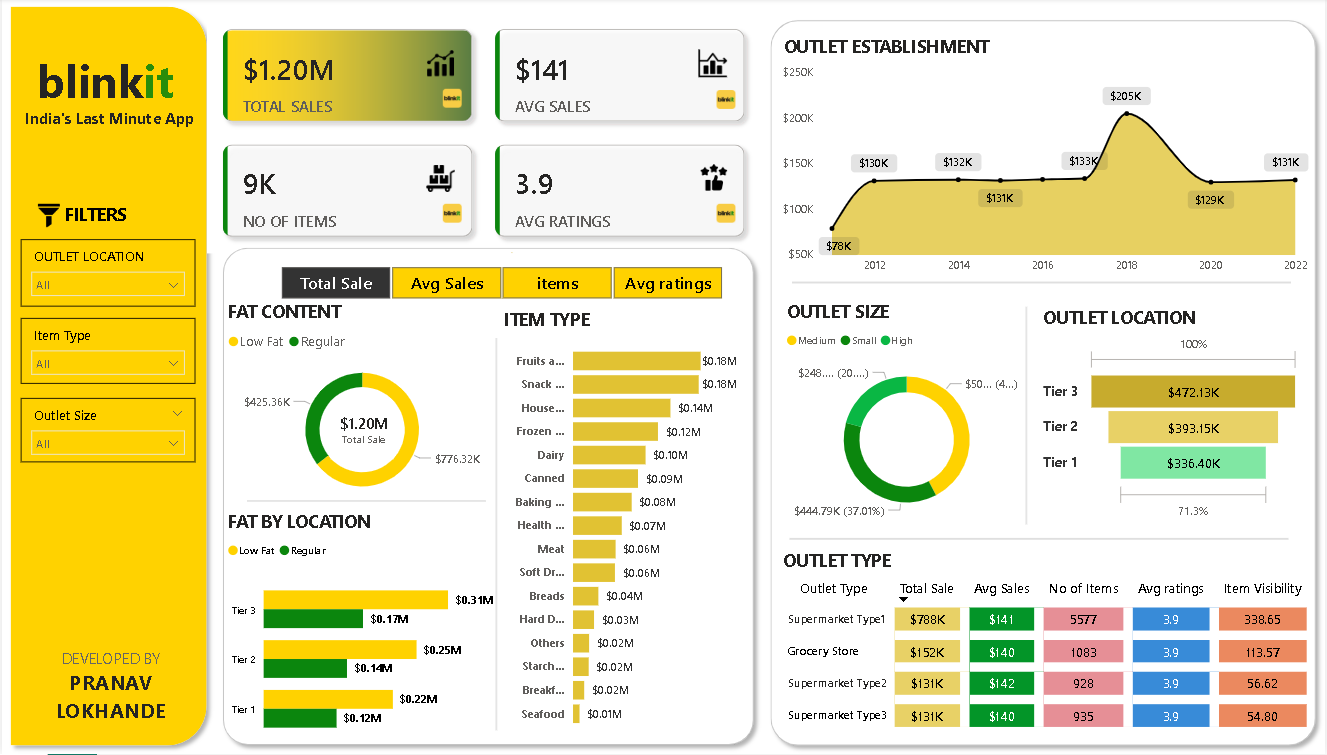

The dashboard page shown, as its layout file describes it:
{"tool":"powerbi","page":{"name":"Page 1","canvas":[1400,800],"ordinal":0},"visuals":[{"type":"shape","box":[0,0,225.4,800],"z":0},{"type":"textbox","box":[32.2,49.2,176.3,76.3],"z":1000},{"type":"textbox","box":[13.6,110.2,201.7,67.8],"z":2000},{"type":"cardVisual","fields":{"Data":["BlinkIT Grocery Data.Total Sale","BlinkIT Grocery Data.Avg Sales","BlinkIT Grocery Data.items","BlinkIT Grocery Data.Avg ratings"]},"box":[216.9,15.3,586.4,254.2],"z":3000},{"type":"shape","box":[225.4,255.9,579.7,544.1],"z":4000},{"type":"donutChart","title":"FAT CONTENT","fields":{"Y":["BlinkIT Grocery Data.Total Sale"],"Category":["BlinkIT Grocery Data.Item Fat Content"]},"box":[233.9,318.6,294.9,222],"z":5000},{"type":"slicer","fields":{"Values":["Metrics.Metrics"]},"box":[269.6,277.3,516.4,45.8],"z":6000},{"type":"cardVisual","fields":{"Data":["BlinkIT Grocery Data.Total Sale"]},"box":[347.6,426.7,66.8,60.6],"z":7000},{"type":"clusteredBarChart","title":"FAT BY LOCATION","fields":{"Series":["BlinkIT Grocery Data.Item Fat Content"],"Y":["BlinkIT Grocery Data.Total Sale"],"Category":["BlinkIT Grocery Data.Outlet Location Type"]},"box":[233.9,540.7,294.9,259.3],"z":8000},{"type":"barChart","title":"ITEM TYPE","fields":{"Y":["BlinkIT Grocery Data.Total Sale"],"Category":["BlinkIT Grocery Data.Item Type"]},"box":[527.1,327.1,259.3,455.9],"z":9000},{"type":"shape","box":[259.3,523.7,252.5,16.9],"z":10000},{"type":"shape","box":[804,14.8,594.9,785.4],"z":11000},{"type":"lineChart","title":"OUTLET ESTABLISHMENT","fields":{"Category":["BlinkIT Grocery Data.Outlet Establishment Year"],"Y":["BlinkIT Grocery Data.Total Sale"]},"box":[820.3,37.9,567.2,262.2],"z":12000},{"type":"donutChart","title":"OUTLET SIZE","fields":{"Category":["BlinkIT Grocery Data.Outlet Size"],"Y":["BlinkIT Grocery Data.Total Sale"]},"box":[825.4,318.7,264.3,244.7],"z":13000},{"type":"funnel","title":"OUTLET LOCATION","fields":{"Category":["BlinkIT Grocery Data.Outlet Location Type"],"Y":["BlinkIT Grocery Data.Total Sale"]},"box":[1093.8,324.6,284.9,233.8],"z":14000},{"type":"pivotTable","title":"OUTLET TYPE","fields":{"Rows":["BlinkIT Grocery Data.Outlet Type"],"Values":["BlinkIT Grocery Data.Total Sale","BlinkIT Grocery Data.Avg Sales","BlinkIT Grocery Data.items","BlinkIT Grocery Data.Avg ratings","Sum(BlinkIT Grocery Data.Item Visibility)"]},"box":[821,579.3,565.8,204.1],"z":15000},{"type":"shape","box":[833,564.3,528.3,15],"z":16000},{"type":"shape","box":[1078,327.1,11.9,230.5],"z":17000},{"type":"shape","box":[836.1,293.1,528.1,14.8],"z":18000},{"type":"shape","box":[516.9,359.3,11.9,415.3],"z":19000},{"type":"slicer","fields":{"Values":["BlinkIT Grocery Data.Outlet Location Type"]},"box":[20.3,255.9,184.7,71.2],"z":20000},{"type":"slicer","fields":{"Values":["BlinkIT Grocery Data.Item Type"]},"box":[20.3,339,184.7,69.5],"z":21000},{"type":"slicer","fields":{"Values":["BlinkIT Grocery Data.Outlet Size"]},"box":[20.3,423.7,184.7,67.8],"z":22000},{"type":"image","box":[461,91.5,30,30],"z":23000},{"type":"image","box":[750.8,213.6,30,30],"z":24000},{"type":"image","box":[534.3,247.6,10.5,43.5],"z":25000},{"type":"image","box":[461,213.6,30,30],"z":26000},{"type":"image","box":[750.8,93.2,30,30],"z":27000},{"type":"textbox","box":[54,211.6,90.1,39],"z":28000},{"type":"image","box":[28.5,213.1,40.5,34.5],"z":29000},{"type":"textbox","box":[22.5,681.2,185.2,93.9],"z":30000}]}

Visuals, with their boxes in screenshot pixels (x1, y1, x2, y2), scaled from the page's 1400x800 canvas onto the 1327x755 screenshot:
shape: {"left": 0, "top": 0, "right": 214, "bottom": 754}
textbox: {"left": 31, "top": 46, "right": 198, "bottom": 118}
textbox: {"left": 13, "top": 104, "right": 204, "bottom": 168}
cardVisual - BlinkIT Grocery Data.Total Sale x BlinkIT Grocery Data.Avg Sales: {"left": 206, "top": 14, "right": 761, "bottom": 254}
shape: {"left": 214, "top": 242, "right": 763, "bottom": 754}
"FAT CONTENT" donutChart: {"left": 222, "top": 301, "right": 501, "bottom": 510}
slicer - Metrics.Metrics: {"left": 256, "top": 262, "right": 745, "bottom": 305}
cardVisual - BlinkIT Grocery Data.Total Sale: {"left": 329, "top": 403, "right": 393, "bottom": 460}
"FAT BY LOCATION" clusteredBarChart: {"left": 222, "top": 510, "right": 501, "bottom": 754}
"ITEM TYPE" barChart: {"left": 500, "top": 309, "right": 745, "bottom": 739}
shape: {"left": 246, "top": 494, "right": 485, "bottom": 510}
shape: {"left": 762, "top": 14, "right": 1326, "bottom": 754}
"OUTLET ESTABLISHMENT" lineChart: {"left": 778, "top": 36, "right": 1315, "bottom": 283}
"OUTLET SIZE" donutChart: {"left": 782, "top": 301, "right": 1033, "bottom": 532}
"OUTLET LOCATION" funnel: {"left": 1037, "top": 306, "right": 1307, "bottom": 527}
"OUTLET TYPE" pivotTable: {"left": 778, "top": 547, "right": 1314, "bottom": 739}
shape: {"left": 790, "top": 533, "right": 1290, "bottom": 547}
shape: {"left": 1022, "top": 309, "right": 1033, "bottom": 526}
shape: {"left": 793, "top": 277, "right": 1293, "bottom": 291}
shape: {"left": 490, "top": 339, "right": 501, "bottom": 731}
slicer - BlinkIT Grocery Data.Outlet Location Type: {"left": 19, "top": 242, "right": 194, "bottom": 309}
slicer - BlinkIT Grocery Data.Item Type: {"left": 19, "top": 320, "right": 194, "bottom": 386}
slicer - BlinkIT Grocery Data.Outlet Size: {"left": 19, "top": 400, "right": 194, "bottom": 464}
image: {"left": 437, "top": 86, "right": 465, "bottom": 115}
image: {"left": 712, "top": 202, "right": 740, "bottom": 230}
image: {"left": 506, "top": 234, "right": 516, "bottom": 275}
image: {"left": 437, "top": 202, "right": 465, "bottom": 230}
image: {"left": 712, "top": 88, "right": 740, "bottom": 116}
textbox: {"left": 51, "top": 200, "right": 137, "bottom": 237}
image: {"left": 27, "top": 201, "right": 65, "bottom": 234}
textbox: {"left": 21, "top": 643, "right": 197, "bottom": 732}
